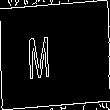M_N: (43, 29, 67, 81)
